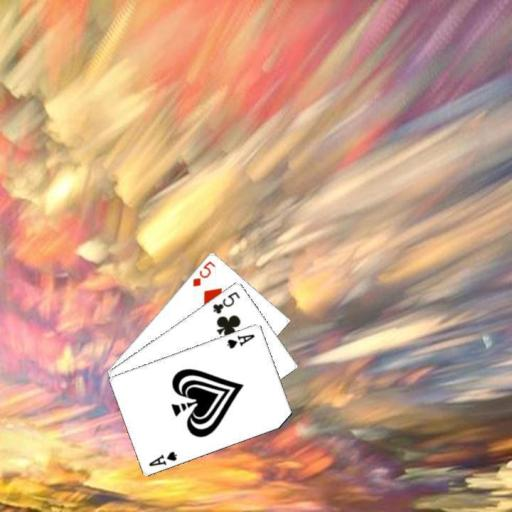card-corner: (189, 257, 217, 288), (210, 288, 242, 315), (146, 448, 179, 467), (224, 331, 256, 350)
